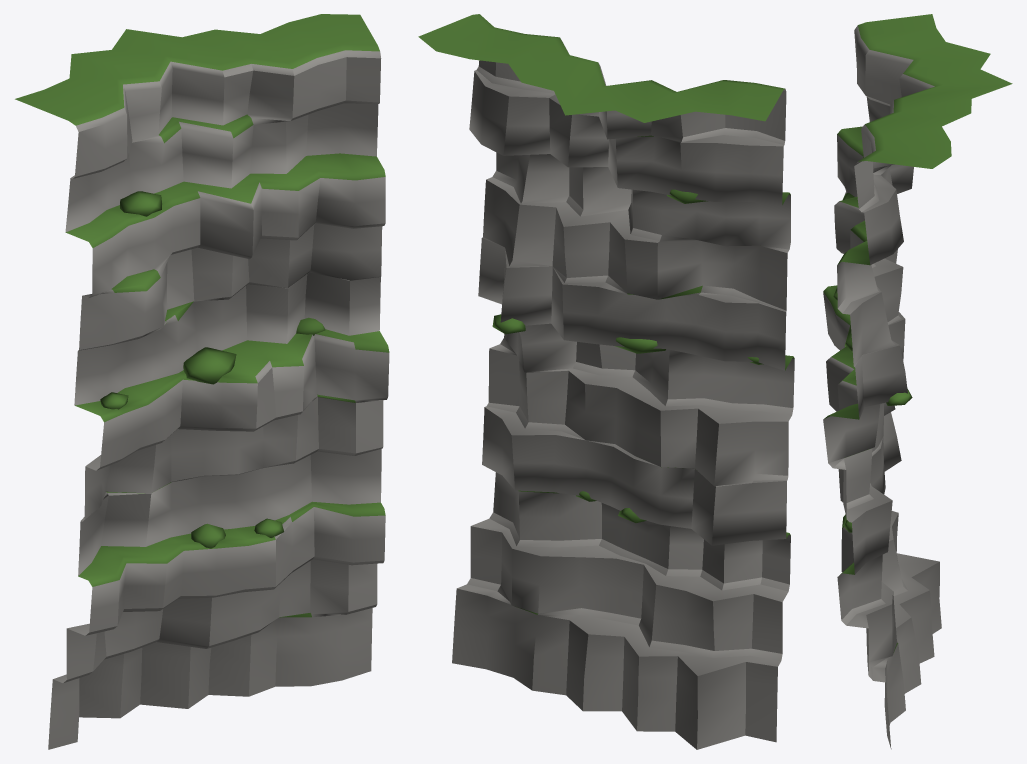
File: cliff_concave_75_lod1.glb
The picture shows the model from 3 angles, left to right: view 1: azimuth 30°, elevation 25°; view 2: azimuth 150°, elevation 25°; view 3: azimuth 270°, elevation 25°; orthographic projection. The views are drawn at different scales.
Parts seen in each view (by area): view 1: cliff_concave_75_lod1; view 2: cliff_concave_75_lod1; view 3: cliff_concave_75_lod1.
Part boxes in pixels (x1,y1,x2,y2): cliff_concave_75_lod1: [15, 14, 389, 749]; cliff_concave_75_lod1: [418, 14, 794, 749]; cliff_concave_75_lod1: [823, 14, 1012, 749].
Bounding box in the file's own units: 44.86 × 79 × 23.19.
